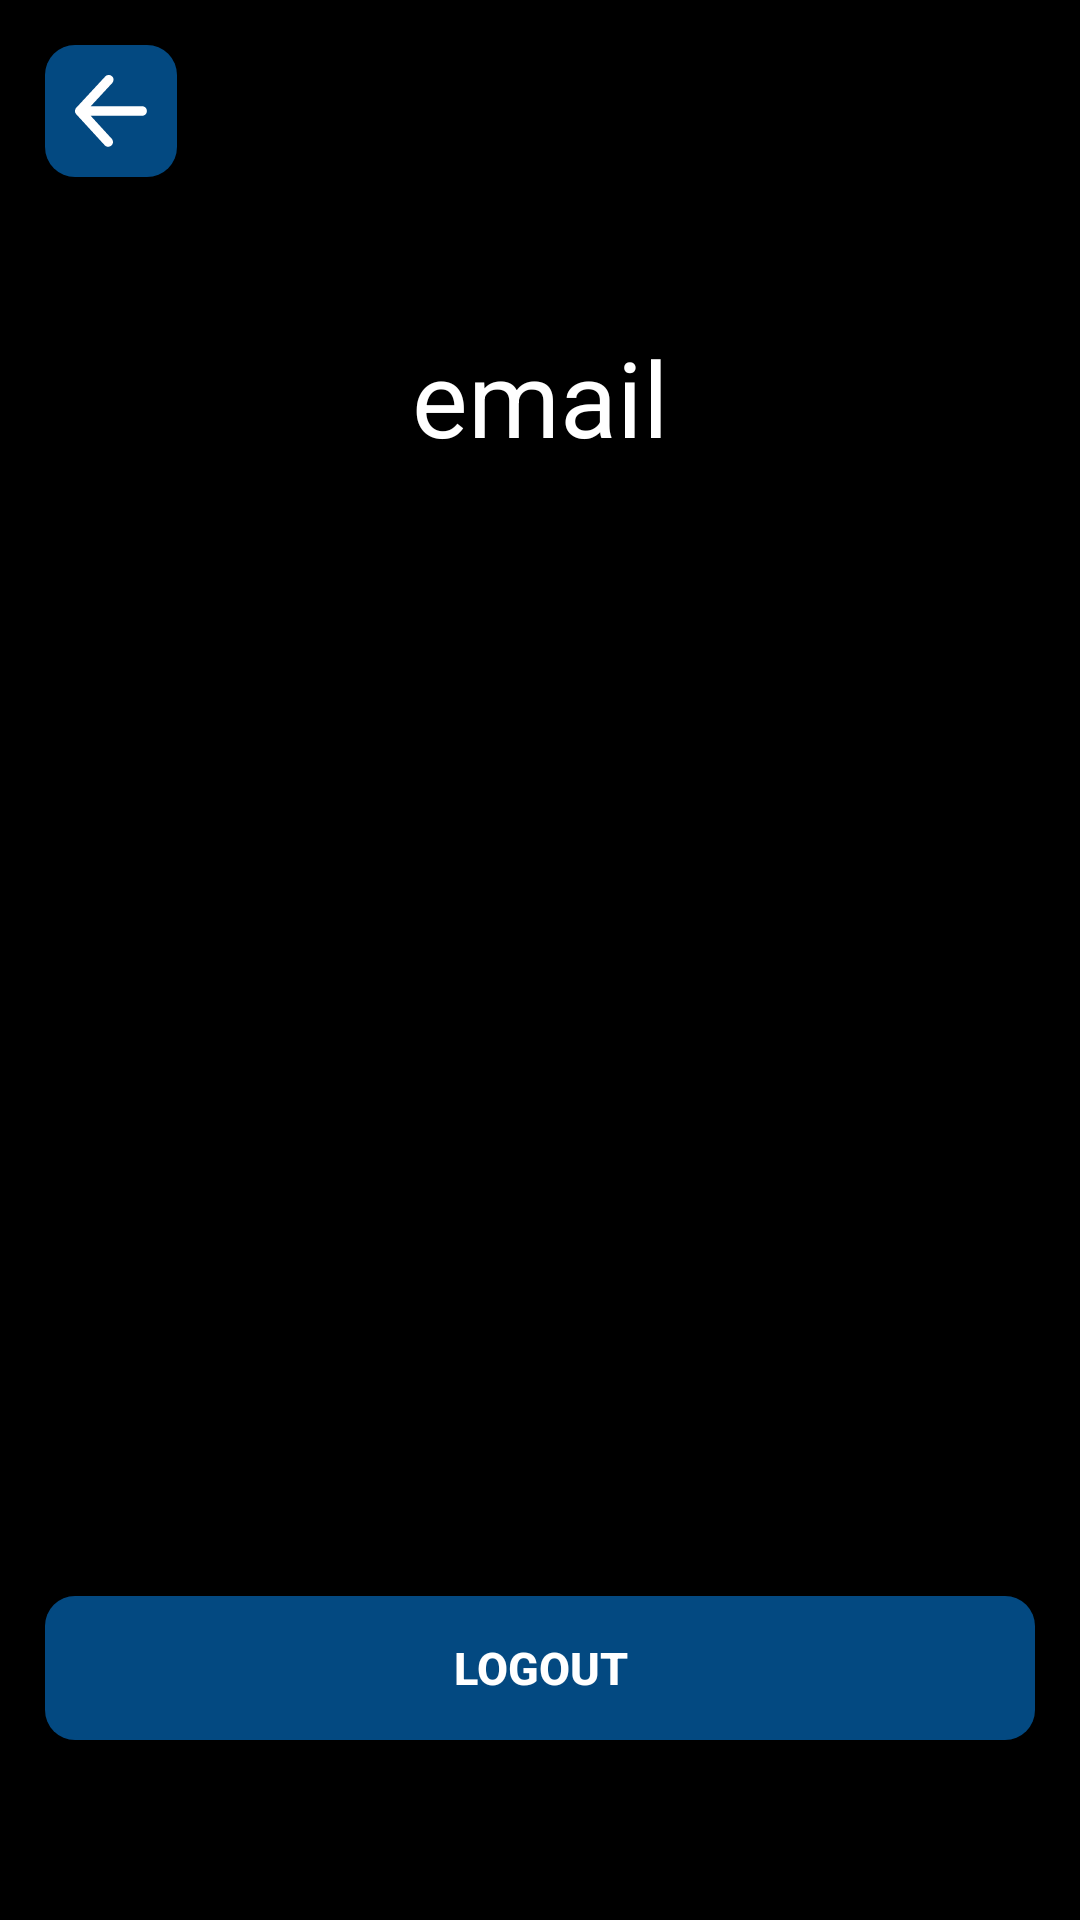

Where to tap for icons on this 1080px x 1920px app screen, as (x,y):
back: (111,111)
